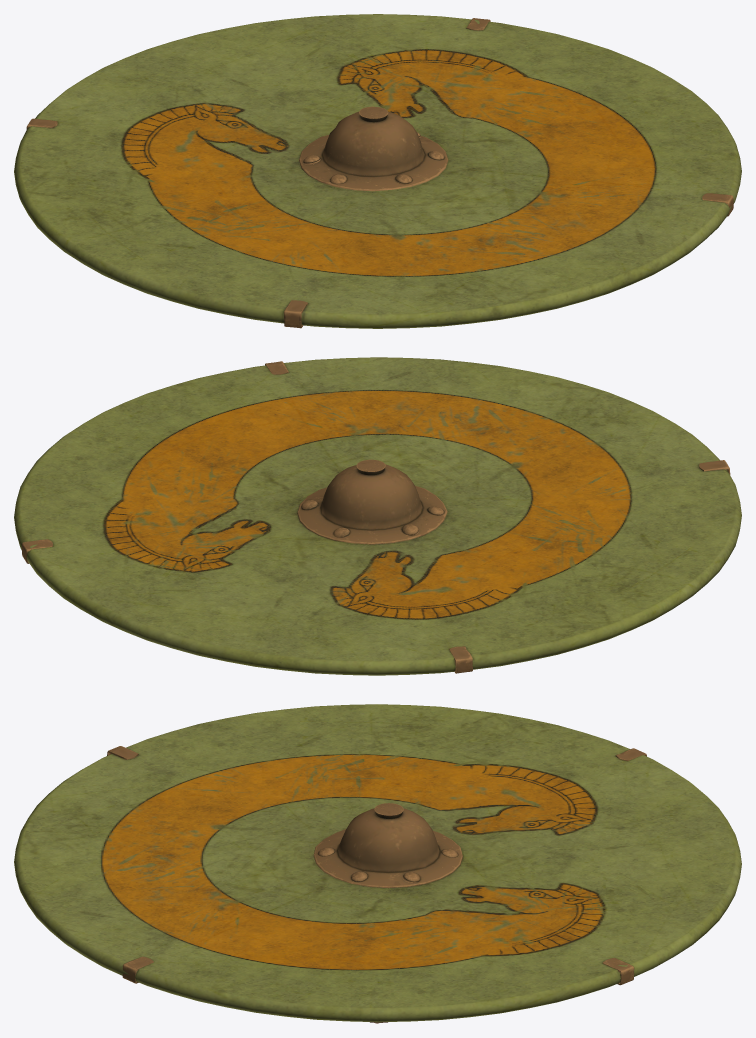
The model's file is cts_rohan_shield.fbx.
The picture shows the model from 3 angles, top to bottom: view 1: azimuth 30°, elevation 25°; view 2: azimuth 150°, elevation 25°; view 3: azimuth 270°, elevation 25°; orthographic projection.
Visible parts, largest first — view 1: cts_rohan_shield; view 2: cts_rohan_shield; view 3: cts_rohan_shield.
Boxes of the visible parts, x1,y1,x2,y2 form: cts_rohan_shield: [14, 14, 741, 328]; cts_rohan_shield: [14, 357, 741, 675]; cts_rohan_shield: [14, 704, 741, 1023].
Size of the model in its own units: 0.9736 by 0.9736 by 0.1045.
Materials: 1 (1 with a texture image).
